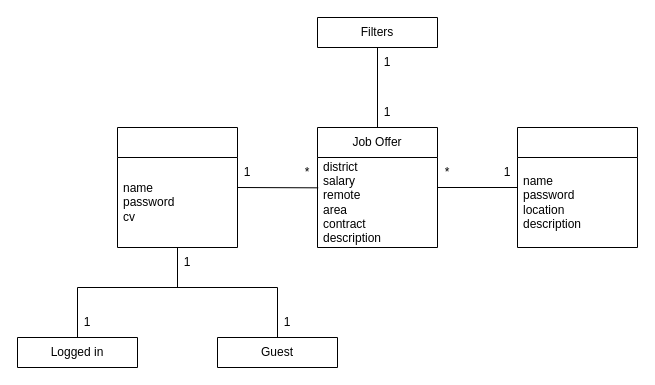
This 655x385 diagram has some shape labels left out. The shapes that lost their labels are listed below. From the top down, each one's box as (x1, y1, x2, y2) in pixels, then its label:
(116, 126, 238, 248): Job Seeker
(516, 126, 638, 248): Company
